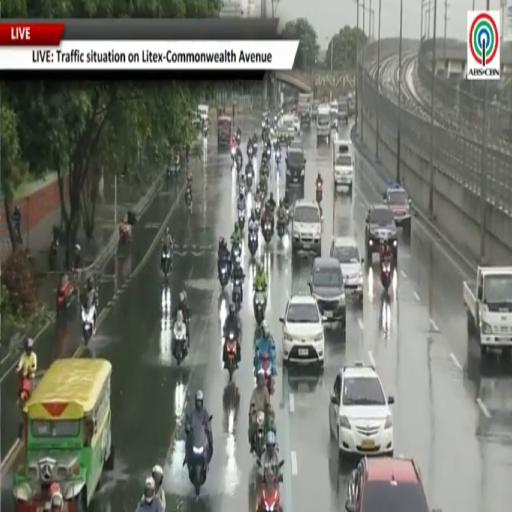car: (330, 362, 394, 457), (345, 458, 441, 511), (280, 295, 324, 366), (309, 258, 345, 331), (330, 237, 363, 300), (366, 204, 398, 265), (292, 200, 321, 255), (384, 187, 411, 233), (333, 140, 354, 190), (286, 148, 306, 186), (287, 139, 305, 155), (338, 98, 348, 124), (312, 101, 320, 119), (294, 115, 300, 134)
jeepney: (14, 359, 113, 511), (218, 116, 232, 150)
motorcycle: (188, 423, 209, 497), (257, 469, 282, 511), (172, 323, 187, 365), (259, 354, 274, 394), (225, 333, 237, 382), (57, 280, 74, 312), (82, 303, 95, 344), (19, 372, 32, 410), (255, 411, 265, 459), (254, 292, 266, 325), (381, 262, 392, 292), (218, 263, 230, 290), (232, 279, 242, 311), (161, 247, 171, 278), (118, 222, 132, 244), (49, 239, 58, 271), (248, 231, 258, 257), (262, 220, 272, 244), (259, 175, 267, 201), (185, 187, 192, 212), (277, 218, 285, 238), (232, 244, 241, 261), (246, 167, 253, 188), (261, 163, 269, 180), (239, 208, 245, 230), (316, 183, 322, 204), (239, 182, 247, 197), (255, 199, 261, 218), (236, 153, 242, 172), (275, 151, 281, 166), (231, 147, 236, 164), (247, 145, 253, 159), (265, 146, 271, 159), (203, 126, 208, 139), (236, 134, 241, 147)
truck: (463, 267, 511, 355), (316, 104, 330, 145), (276, 115, 296, 142), (298, 93, 313, 126)
